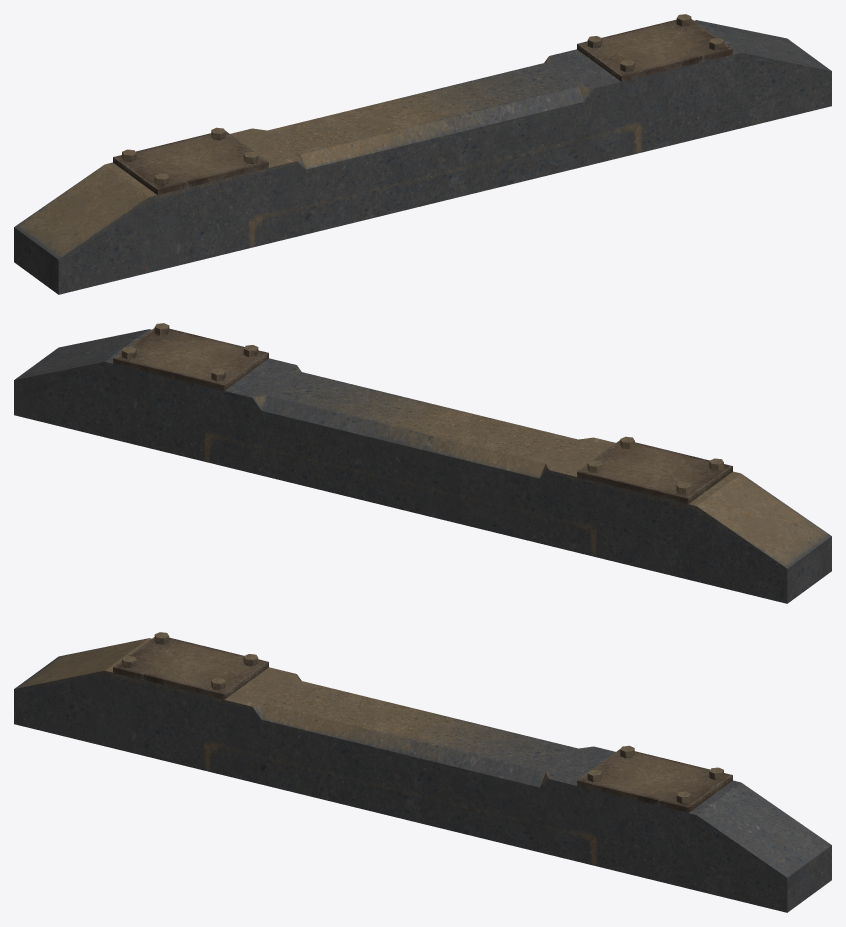
The model's file is SM_TrackRailSleeper.FBX.
The picture shows the model from 3 angles, top to bottom: view 1: azimuth 30°, elevation 25°; view 2: azimuth 150°, elevation 25°; view 3: azimuth 330°, elevation 25°; orthographic projection.
Parts seen in each view (by area): view 1: SM_TrackRailSleeper; view 2: SM_TrackRailSleeper; view 3: SM_TrackRailSleeper.
Boxes of the visible parts, x1,y1,x2,y2 form: SM_TrackRailSleeper: [14, 14, 831, 294]; SM_TrackRailSleeper: [14, 323, 831, 603]; SM_TrackRailSleeper: [14, 632, 831, 912].
Size of the model in its own units: 280 by 28 by 30.24.
